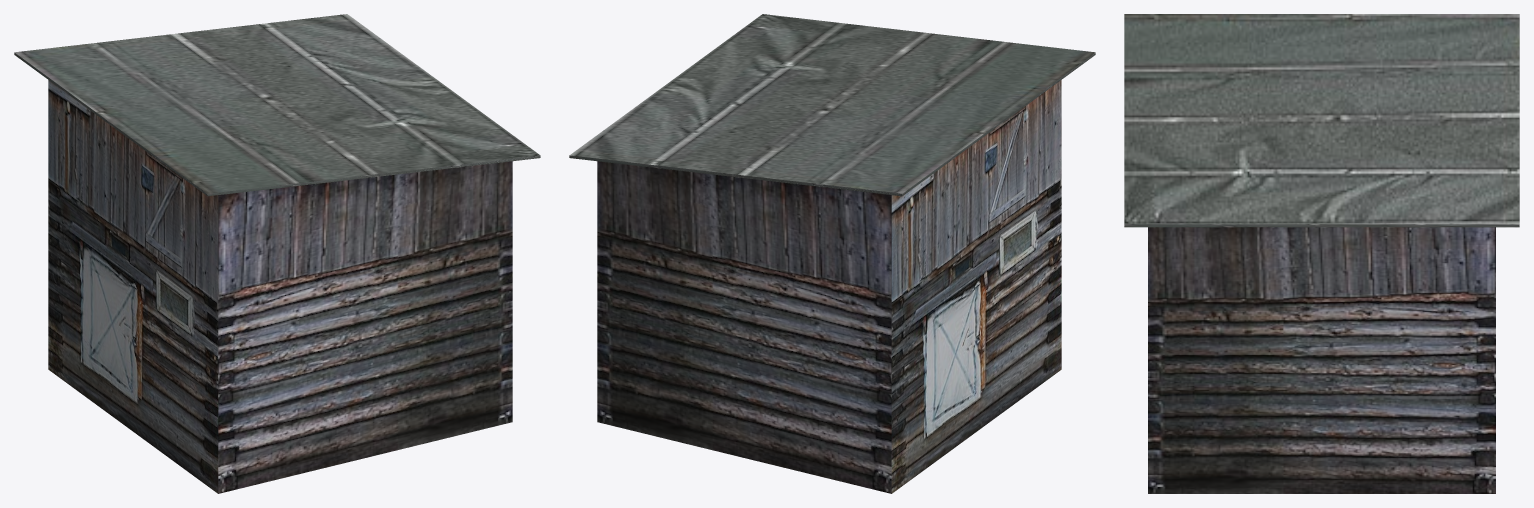
The picture shows the model from 3 angles, left to right: view 1: azimuth 30°, elevation 25°; view 2: azimuth 150°, elevation 25°; view 3: azimuth 270°, elevation 25°; orthographic projection. The views are drawn at different scales.
Visible parts, largest first — view 1: Box01; view 2: Box01; view 3: Box01.
Part boxes in pixels (left/top/right/bottom): Box01: left=14, top=14, right=540, bottom=493; Box01: left=569, top=14, right=1095, bottom=493; Box01: left=1124, top=14, right=1519, bottom=493.
Bounding box in the file's own units: 4.53 × 4.08 × 4.55.
Materials: 1 (1 with a texture image).
